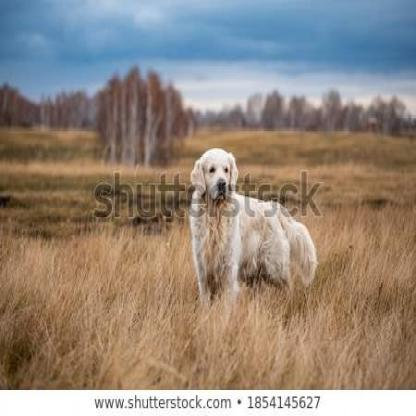dog: (191, 148, 320, 300)
